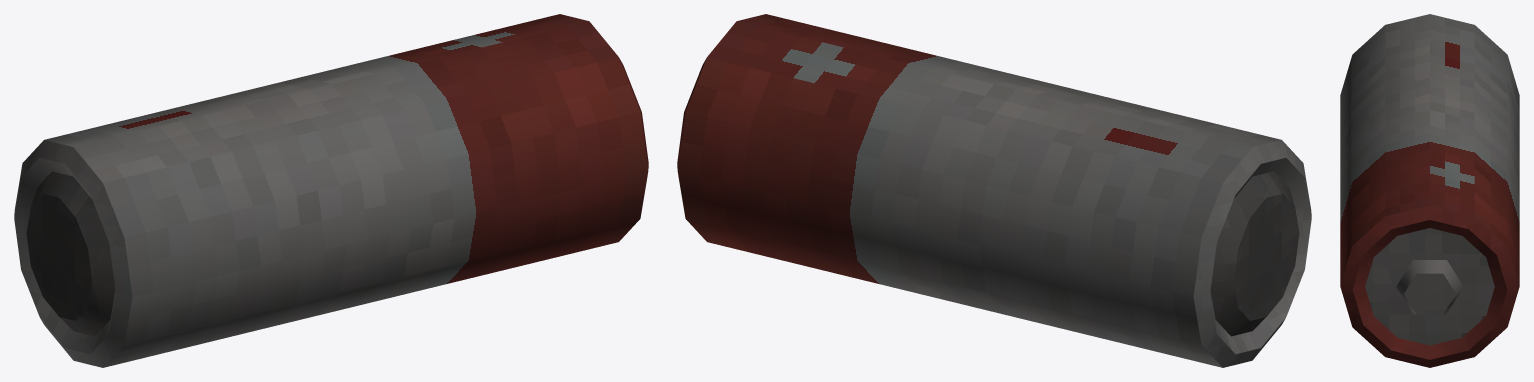
File: battery_mp_1_1.glb
3 renders of one model, left to right at view 1: azimuth 30°, elevation 25°; view 2: azimuth 150°, elevation 25°; view 3: azimuth 270°, elevation 25°, orthographic. The views are drawn at different scales.
Parts seen in each view (by area): view 1: battery_mp_1_1; view 2: battery_mp_1_1; view 3: battery_mp_1_1.
Part boxes in pixels (x1=…): battery_mp_1_1: x1=14, y1=14, x2=648, y2=367; battery_mp_1_1: x1=677, y1=14, x2=1311, y2=367; battery_mp_1_1: x1=1340, y1=14, x2=1519, y2=367.
Bounding box in the file's own units: 0.097 × 0.036 × 0.036.
1 material, 1 textured.
